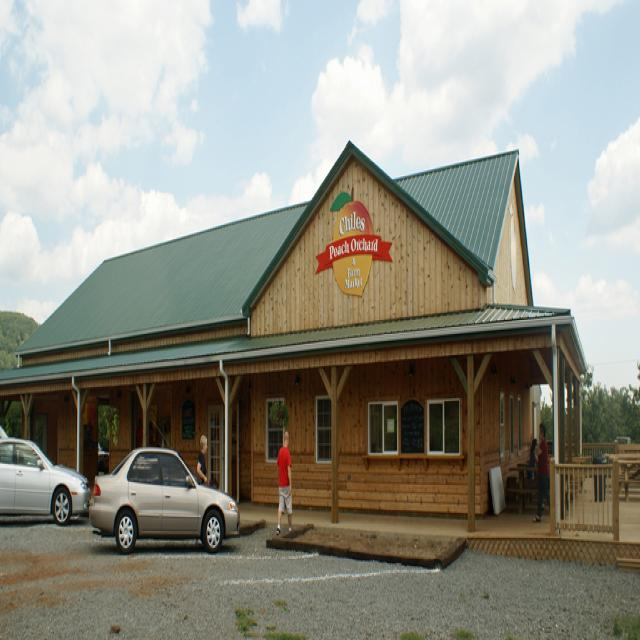car: (88, 446, 230, 555)
